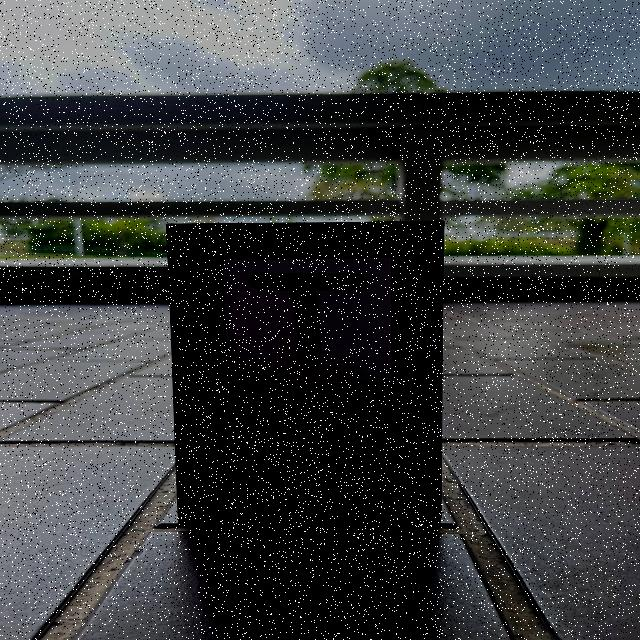T_id29: (222, 258, 394, 382)
